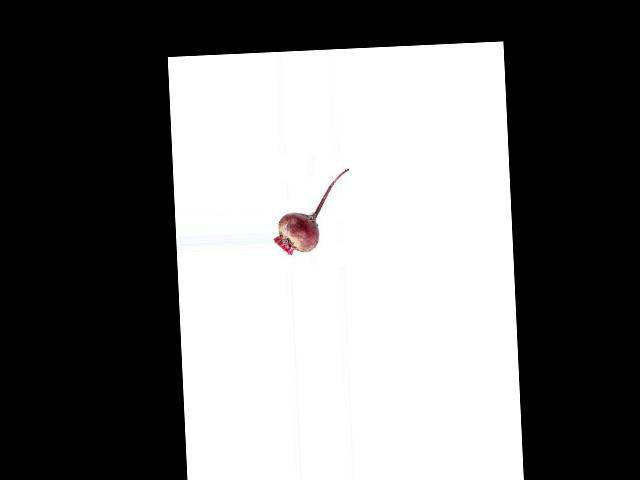beet: (270, 168, 352, 254)
